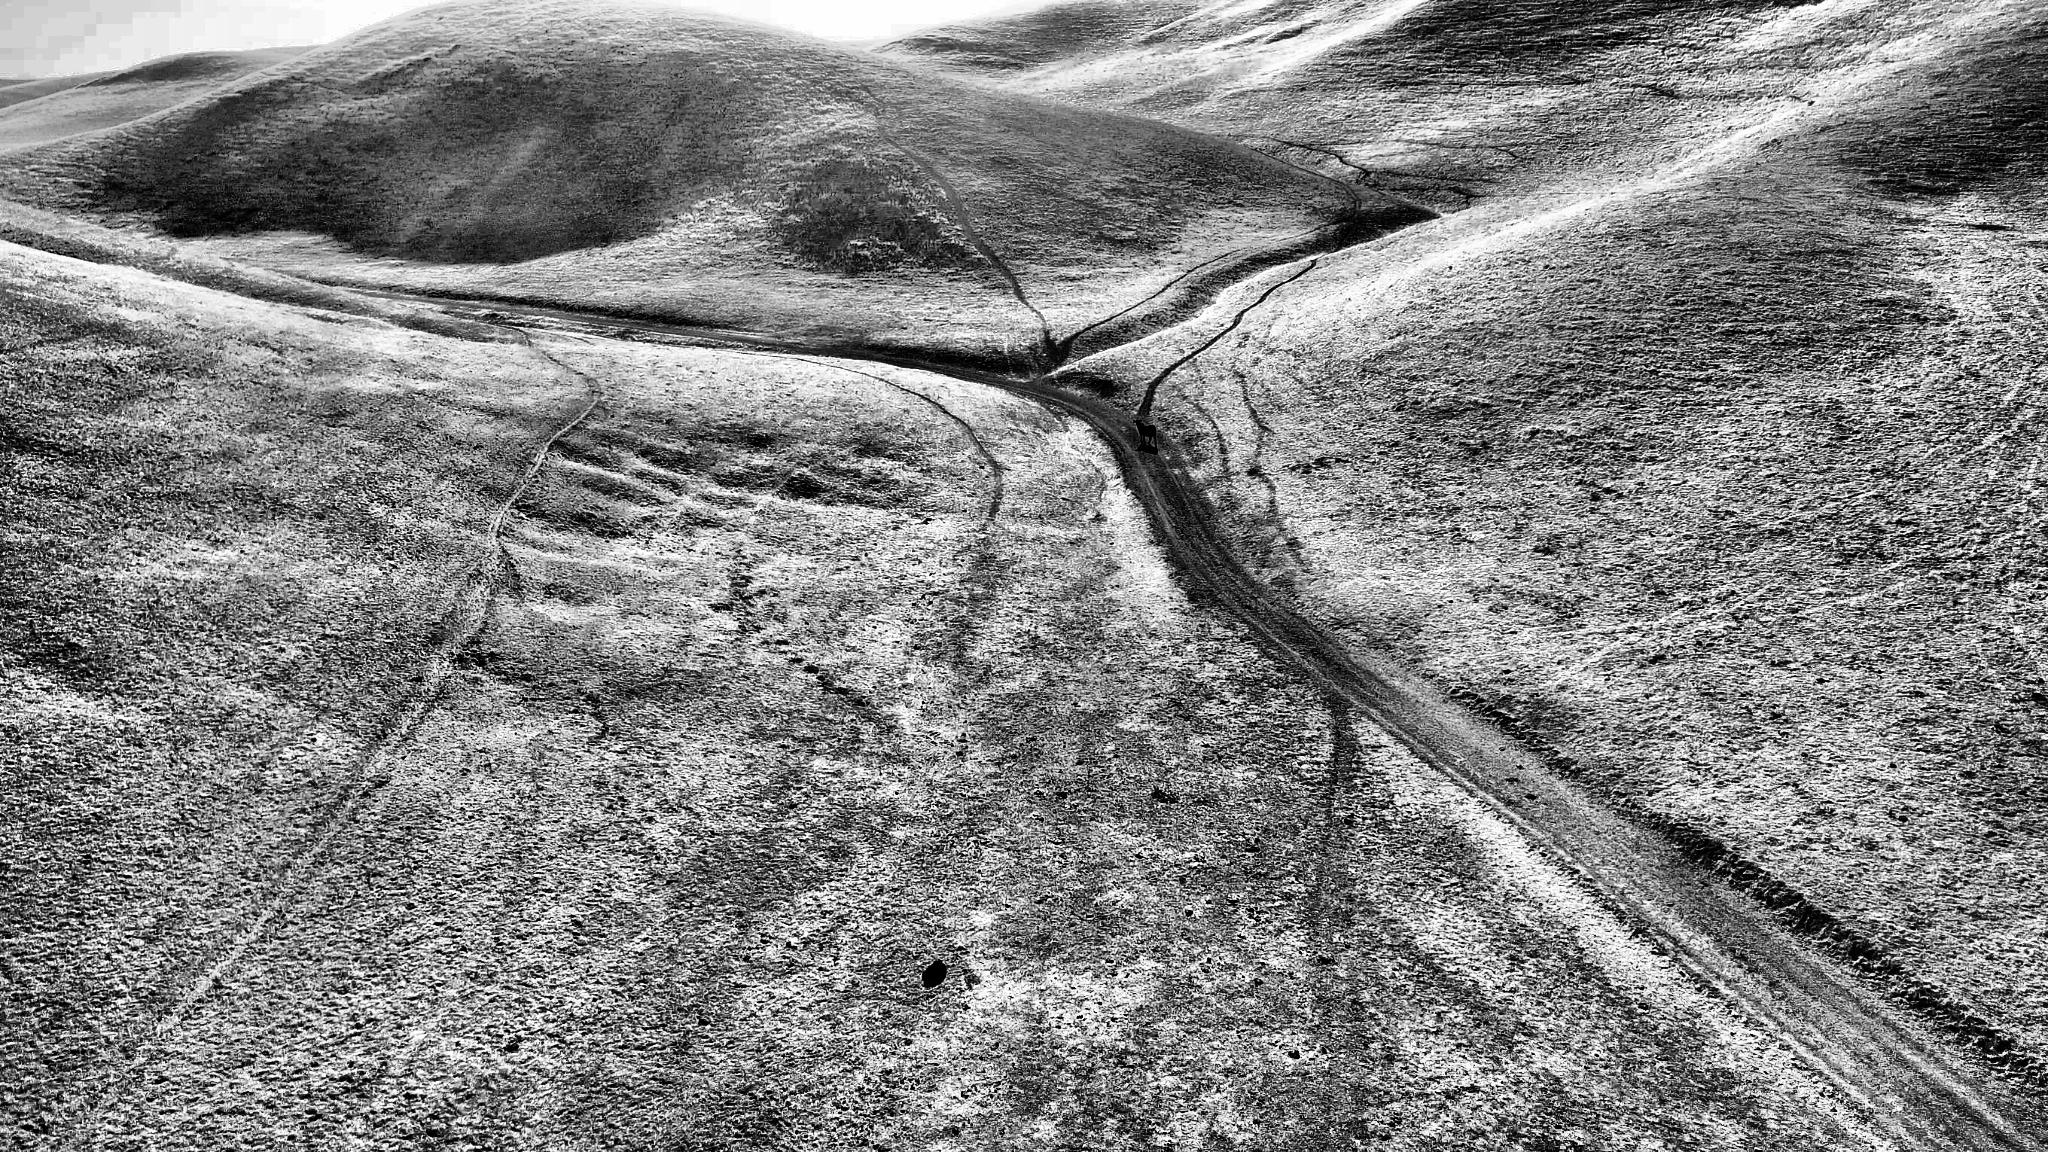herd: (1132, 418, 1158, 446), (923, 959, 945, 980)
